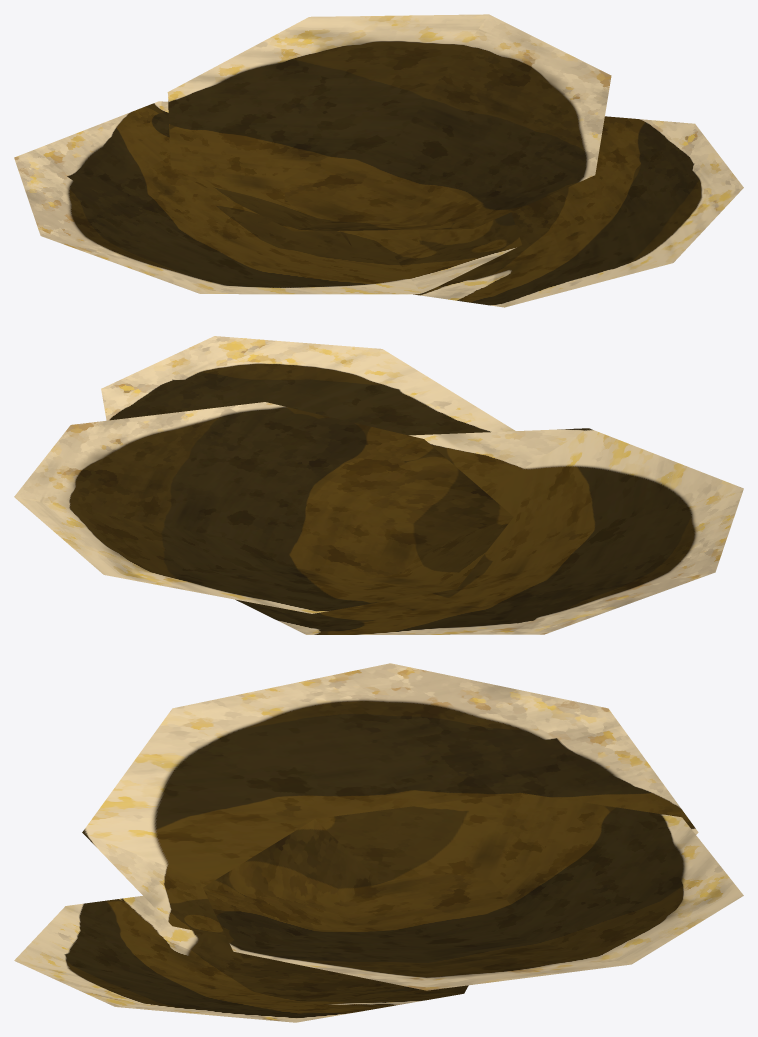
Rendered from art_3D model_environment_trametes.fbx.
3 views of the same model, one above another, from view 1: azimuth 30°, elevation 25°; view 2: azimuth 150°, elevation 25°; view 3: azimuth 270°, elevation 25° (orthographic). The views are drawn at different scales.
Parts seen in each view (by area): view 1: Cylinder; view 2: Cylinder; view 3: Cylinder.
Part boxes in pixels (x1=…): Cylinder: x1=14, y1=14, x2=743, y2=307; Cylinder: x1=14, y1=336, x2=743, y2=634; Cylinder: x1=14, y1=663, x2=743, y2=1022.
Bounding box in the file's own units: 34.99 × 4.94 × 30.82.
Materials: 1 (1 with a texture image).
